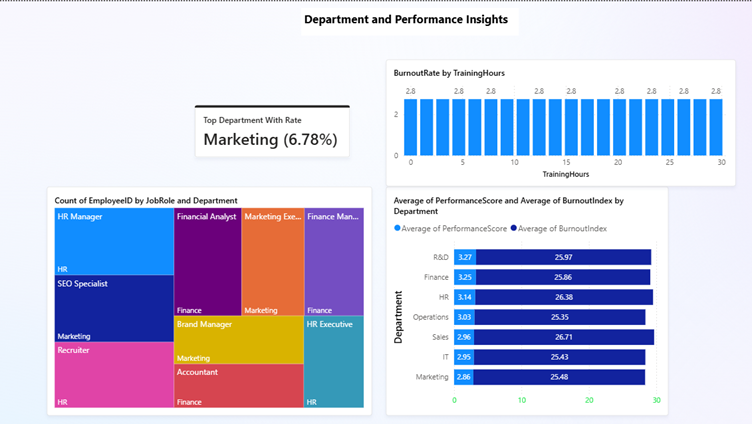

The dashboard page shown, as its layout file describes it:
{"tool":"powerbi","page":{"name":"Department & Performance Insights","canvas":[1280,720],"ordinal":2},"visuals":[{"type":"barChart","fields":{"Category":["burnout_master.Department"],"Y":["Avg(burnout_master.PerformanceScore)","Avg(burnout_master.BurnoutIndex)"]},"box":[639.5,306,466.6,378.7],"z":0},{"type":"clusteredColumnChart","fields":{"Y":["burnout_master.BurnoutRate"],"Category":["burnout_master.TrainingHours (bins) 3"]},"box":[639.5,96.1,577.7,209.9],"z":1000},{"type":"cardVisual","fields":{"Data":["burnout_master.TopDeptWithRate"]},"box":[323.8,171.5,256.6,86.4],"z":2000},{"type":"treemap","fields":{"Group":["burnout_master.JobRole"],"Details":["burnout_master.Department"],"Values":["CountNonNull(burnout_master.EmployeeID)"]},"box":[79.6,306,536.5,378.7],"z":3000},{"type":"textbox","box":[499.5,11,359.5,45.3],"z":3001}]}

Visuals, with their boxes in screenshot pixels (x1, y1, x2, y2), scaled from the page's 1280x720 canvas onto the 752x424 screenshot:
barChart - burnout_master.Department x Avg(burnout_master.PerformanceScore): [376, 180, 650, 403]
clusteredColumnChart - burnout_master.BurnoutRate x burnout_master.TrainingHours (bins) 3: [376, 57, 715, 180]
cardVisual - burnout_master.TopDeptWithRate: [190, 101, 341, 152]
treemap - burnout_master.JobRole x burnout_master.Department: [47, 180, 362, 403]
textbox: [293, 6, 505, 33]
